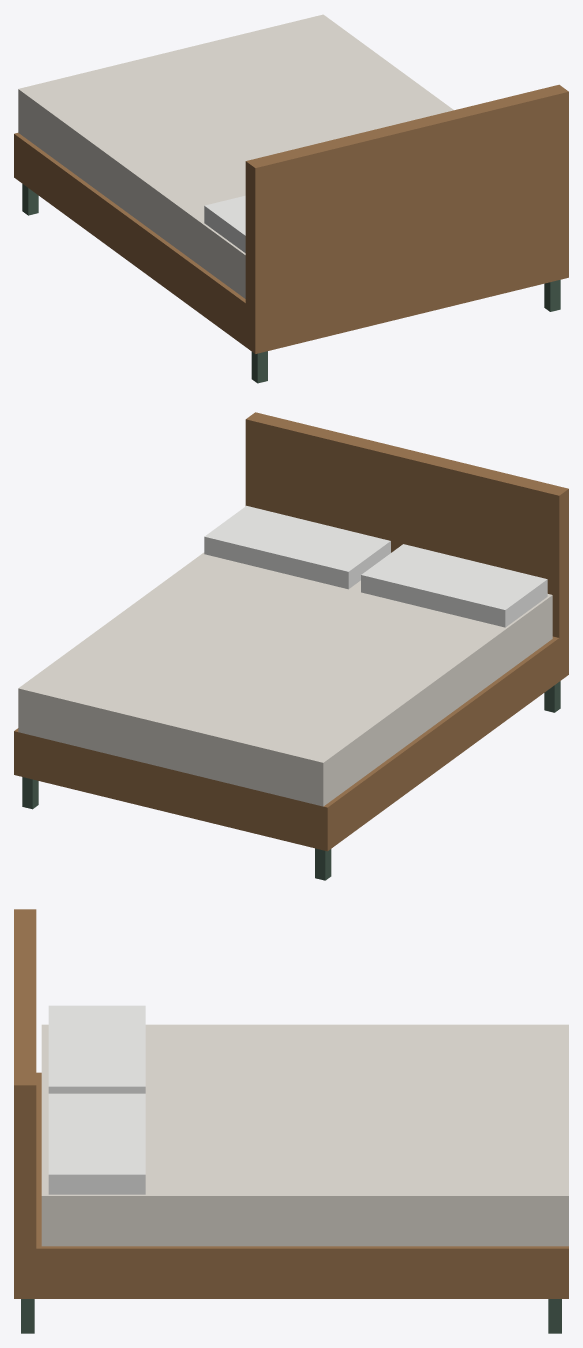
3 views of the same model, one above another, from view 1: azimuth 30°, elevation 25°; view 2: azimuth 150°, elevation 25°; view 3: azimuth 270°, elevation 25° (orthographic). The views are drawn at different scales.
Visible parts, largest first — view 1: headboard, mattress, frame, pillow-0, leg-0-1, leg-1-1; view 2: mattress, headboard, frame, pillow-0, pillow-1; view 3: mattress, frame, pillow-1, pillow-0, headboard.
Part boxes in pixels (box(x1,y1,x2,y2)): headboard: box(245, 84, 568, 353); mattress: box(18, 14, 453, 298); frame: box(14, 133, 568, 353); pillow-0: box(204, 195, 245, 252); leg-0-1: box(251, 351, 267, 383); leg-1-1: box(544, 279, 560, 311); mattress: box(18, 552, 552, 806); headboard: box(245, 412, 568, 681); frame: box(14, 631, 568, 851); pillow-0: box(361, 544, 547, 627); pillow-1: box(204, 505, 390, 589); mattress: box(41, 1024, 568, 1246); frame: box(14, 1072, 568, 1298); pillow-1: box(48, 1093, 145, 1194); pillow-0: box(48, 1005, 145, 1093); headboard: box(14, 909, 36, 1298).
Size of the model in its own units: 1.5 by 1 by 2.
